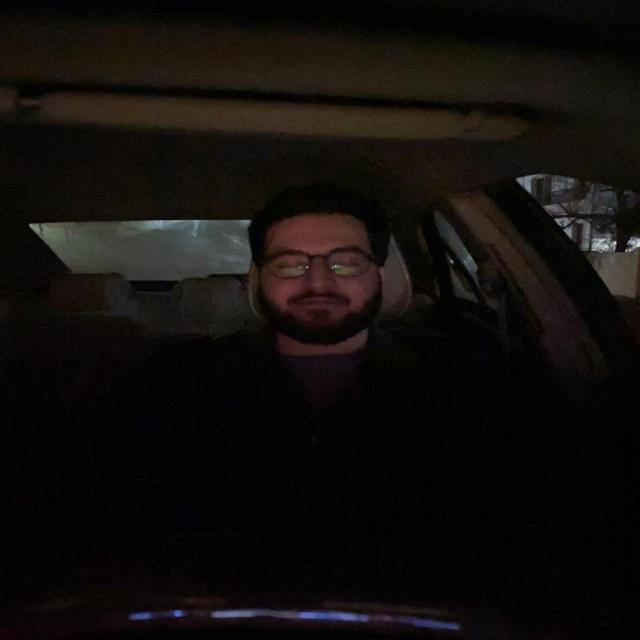drowsy: (242, 184, 406, 347)
